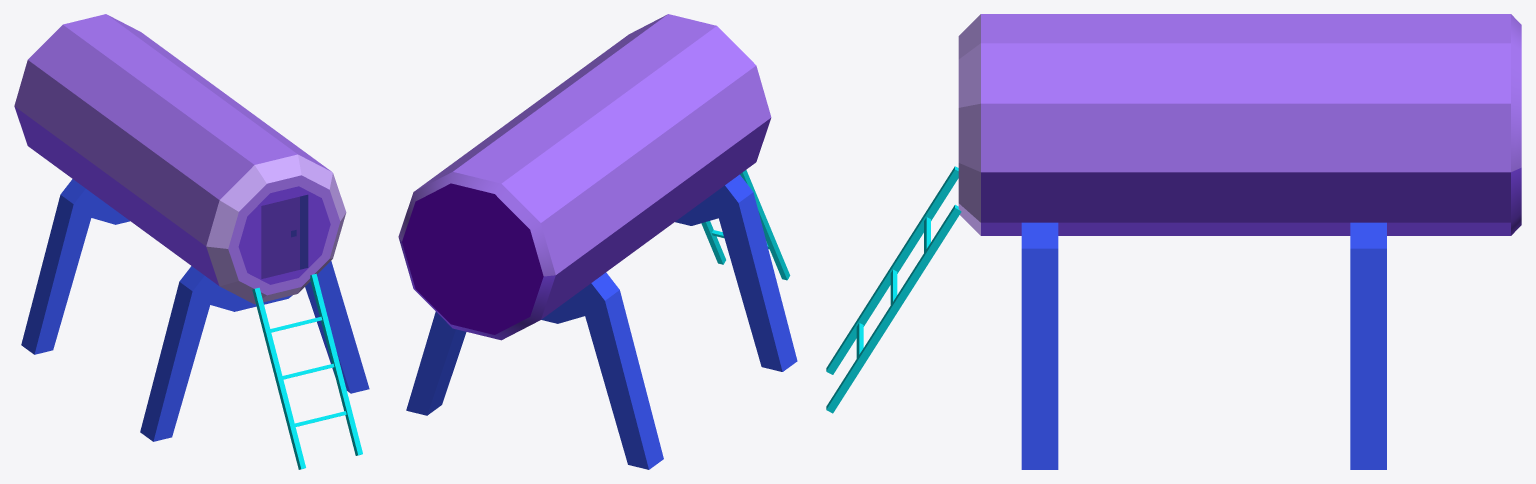
File: Building_014_d.fbx
3 views of the same model, side by side, from view 1: azimuth 30°, elevation 25°; view 2: azimuth 150°, elevation 25°; view 3: azimuth 270°, elevation 25° (orthographic). The views are drawn at different scales.
Parts seen in each view (by area): view 1: Building_014_d; view 2: Building_014_d; view 3: Building_014_d.
Boxes of the visible parts, box(x1,y1,x2,y2) form: Building_014_d: box(14, 14, 369, 469); Building_014_d: box(398, 14, 797, 469); Building_014_d: box(826, 14, 1521, 469).
Size of the model in its own units: 8.79 by 10.36 by 17.72.
